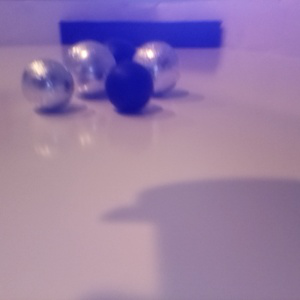alive_ball: (21, 57, 75, 112), (64, 40, 118, 95), (132, 41, 181, 94)
dead_ball: (104, 62, 154, 113), (99, 37, 139, 81)
